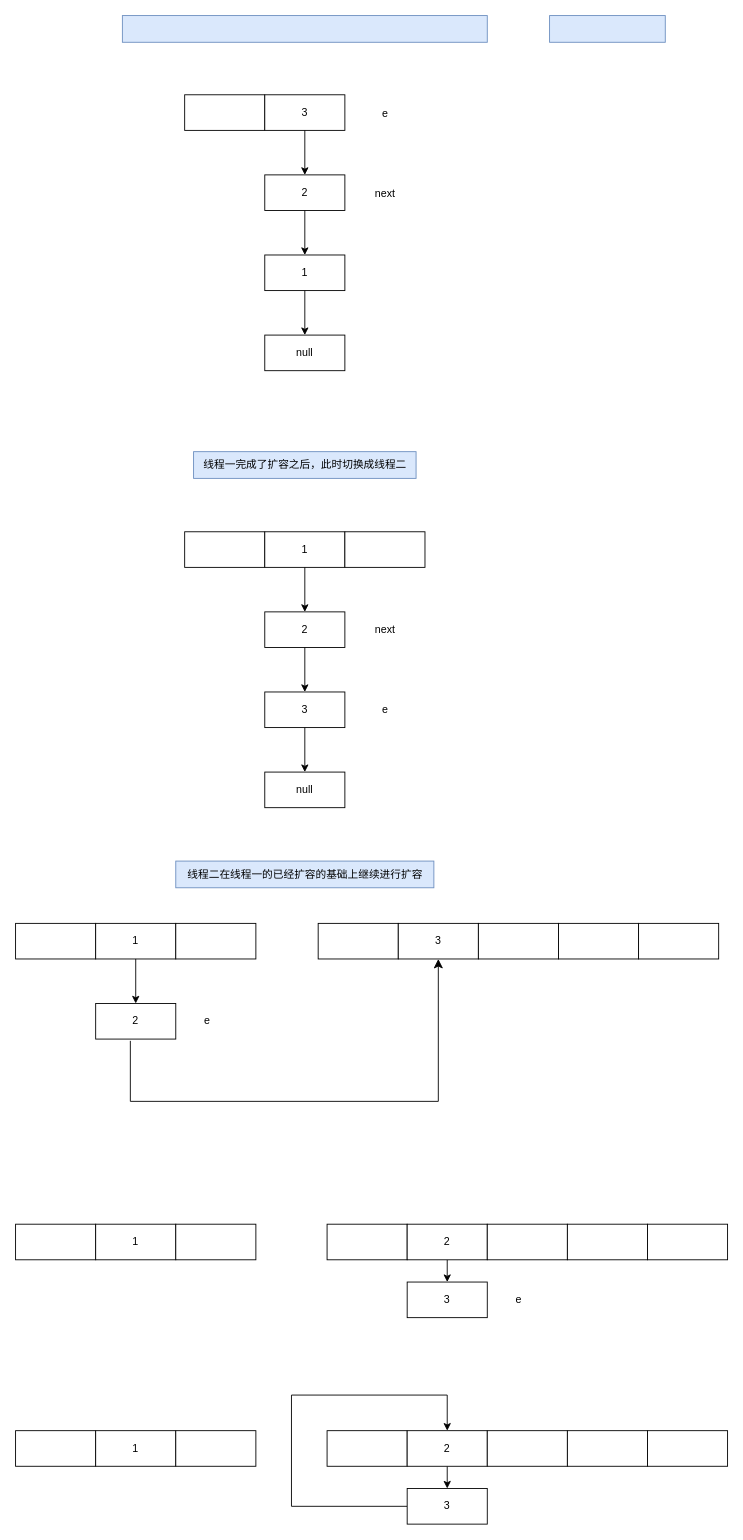
This 743x1540 diagram has some shape labels left out. Each missing label, with the centre of its shape:
使用头插法进行扩容: (x=607, y=28)
线程一和线程二同时进行扩容，此时线程二被阻塞了，线程1先完成了扩容: (x=304, y=28)
